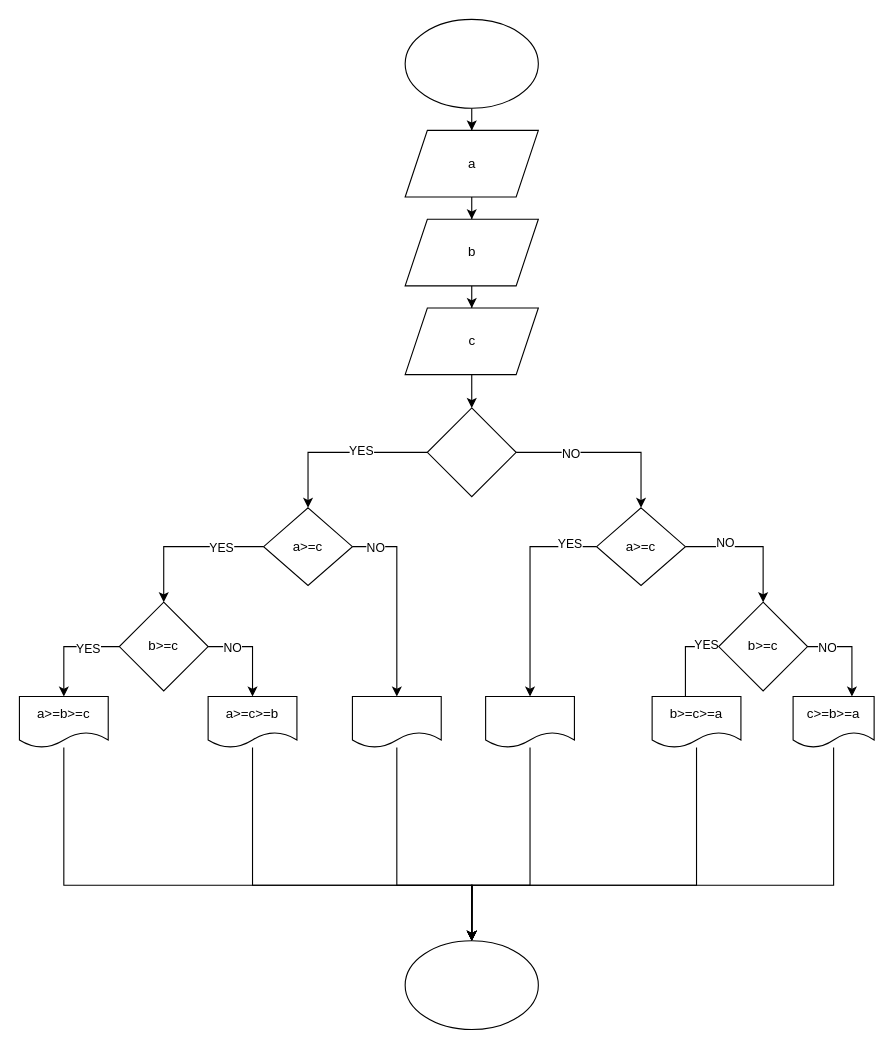
This 894x1049 diagram has some shape labels left out. Here are the shapes that lost their labels. From the top down, the centre of each, then its label:
the point at 471,63: START
the point at 471,452: a>=b
the point at 396,721: c>=a>=b
the point at 529,721: b>=a>=c
the point at 471,985: STOP
